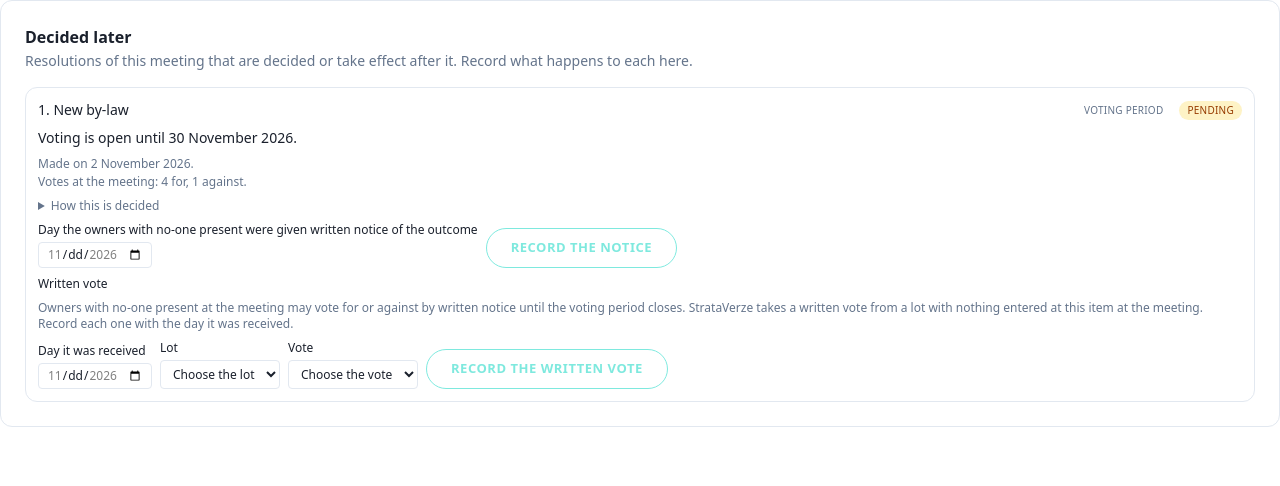
Test: the Decided later panel › records a written vote for a lot that may vote, For or Against, with the day received, and shows a refusal
Expected: the text "Owners with no-one present at the meeting may vote for or against by written notice until the voting period closes. Stra" is shown, [38, 299, 1203, 332]
Expected: the button "Record the written vote" is disabled, [426, 349, 668, 389]
Step 1. Type "2026-11-18" into the date field labelled "Day it was received" → (95, 376), box [38, 363, 152, 389]
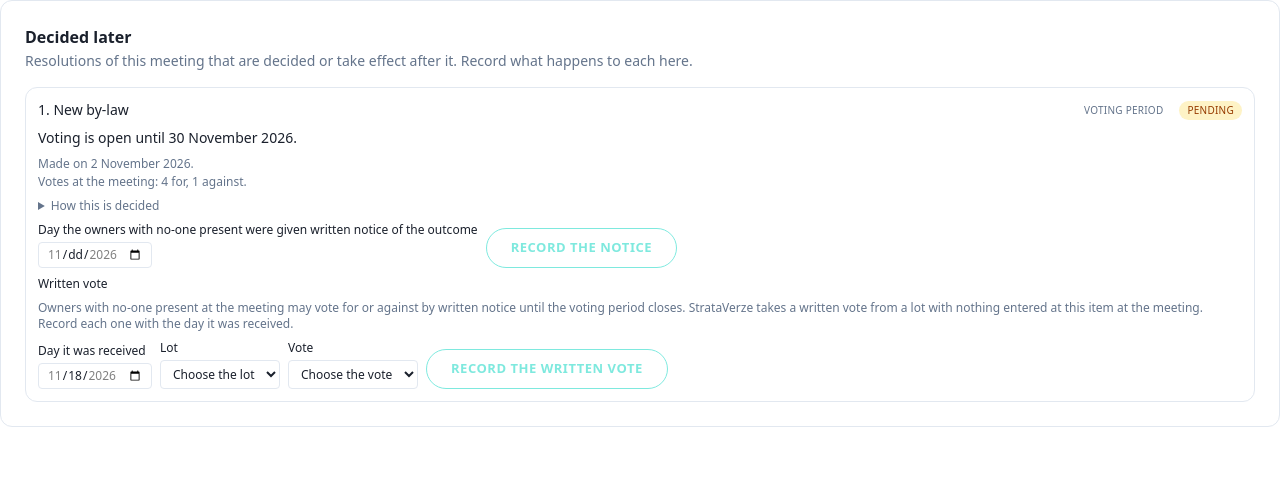
Step 2. Select "Lot 8" in the dropdown labelled "Lot" → (220, 374), box [160, 360, 280, 389]
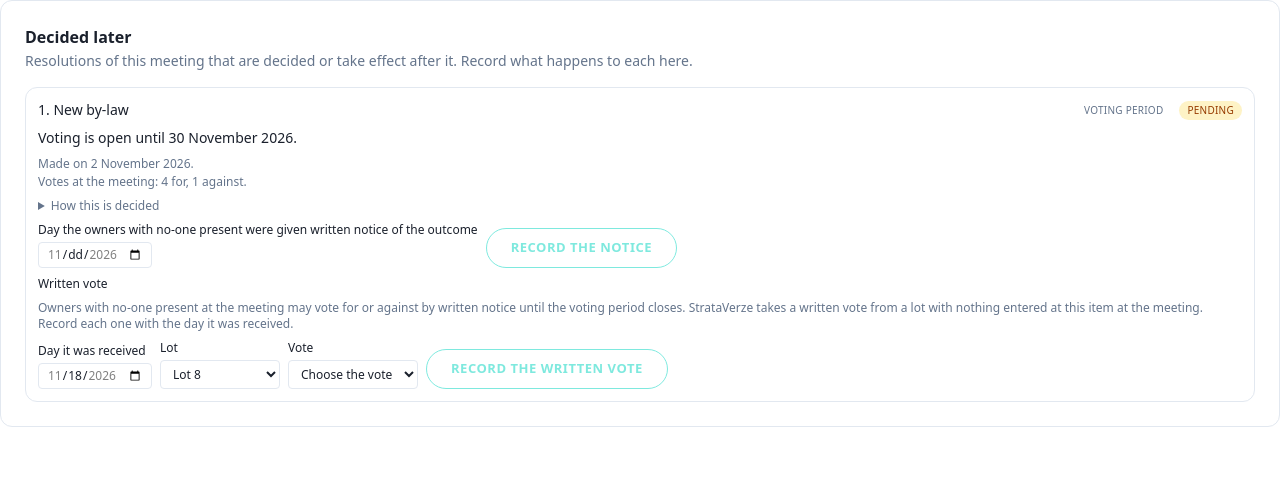
Step 3. Select "Against" in the dropdown labelled "Vote" → (353, 374), box [288, 360, 418, 389]
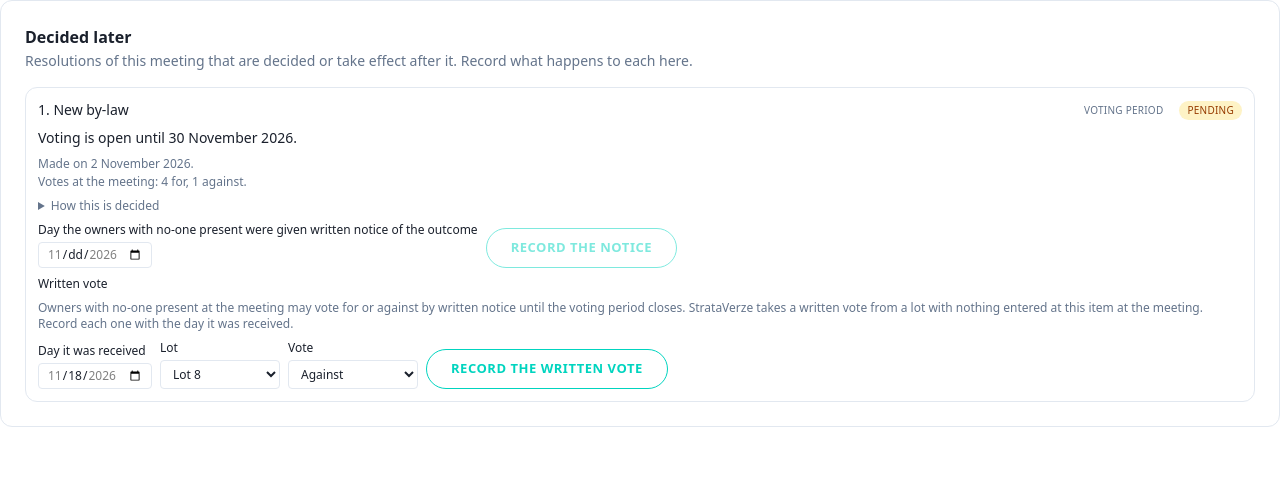
Result: the button "Record the written vote" is enabled
Step 4. Click the button "Record the written vote" → (547, 369), box [426, 349, 668, 389]
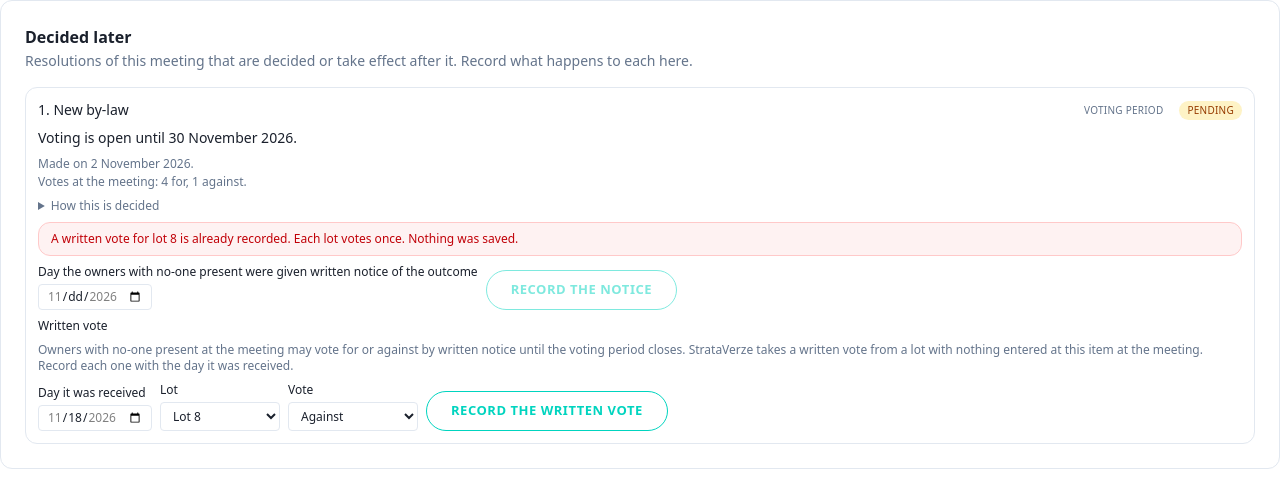
Result: the message shows "A written vote for lot 8 is already recorded. Each lot votes once. Nothing was saved." at [51, 230, 518, 247]
